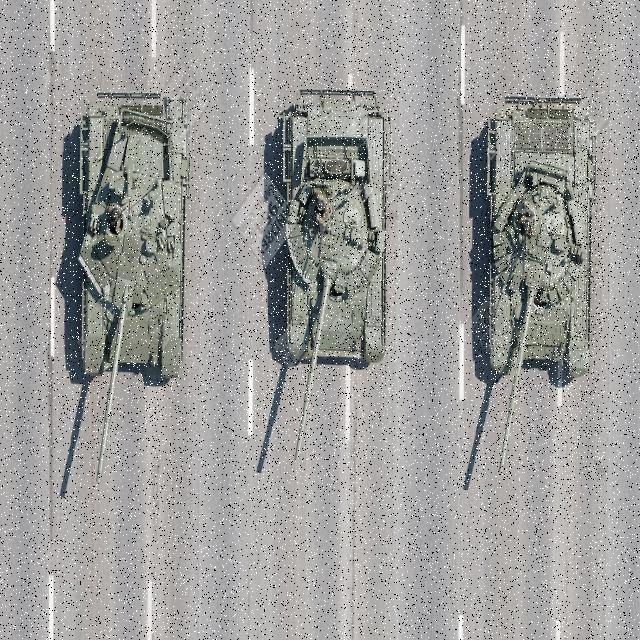MIL_MBT: (476, 88, 604, 477), (66, 89, 190, 483), (271, 83, 395, 467)
